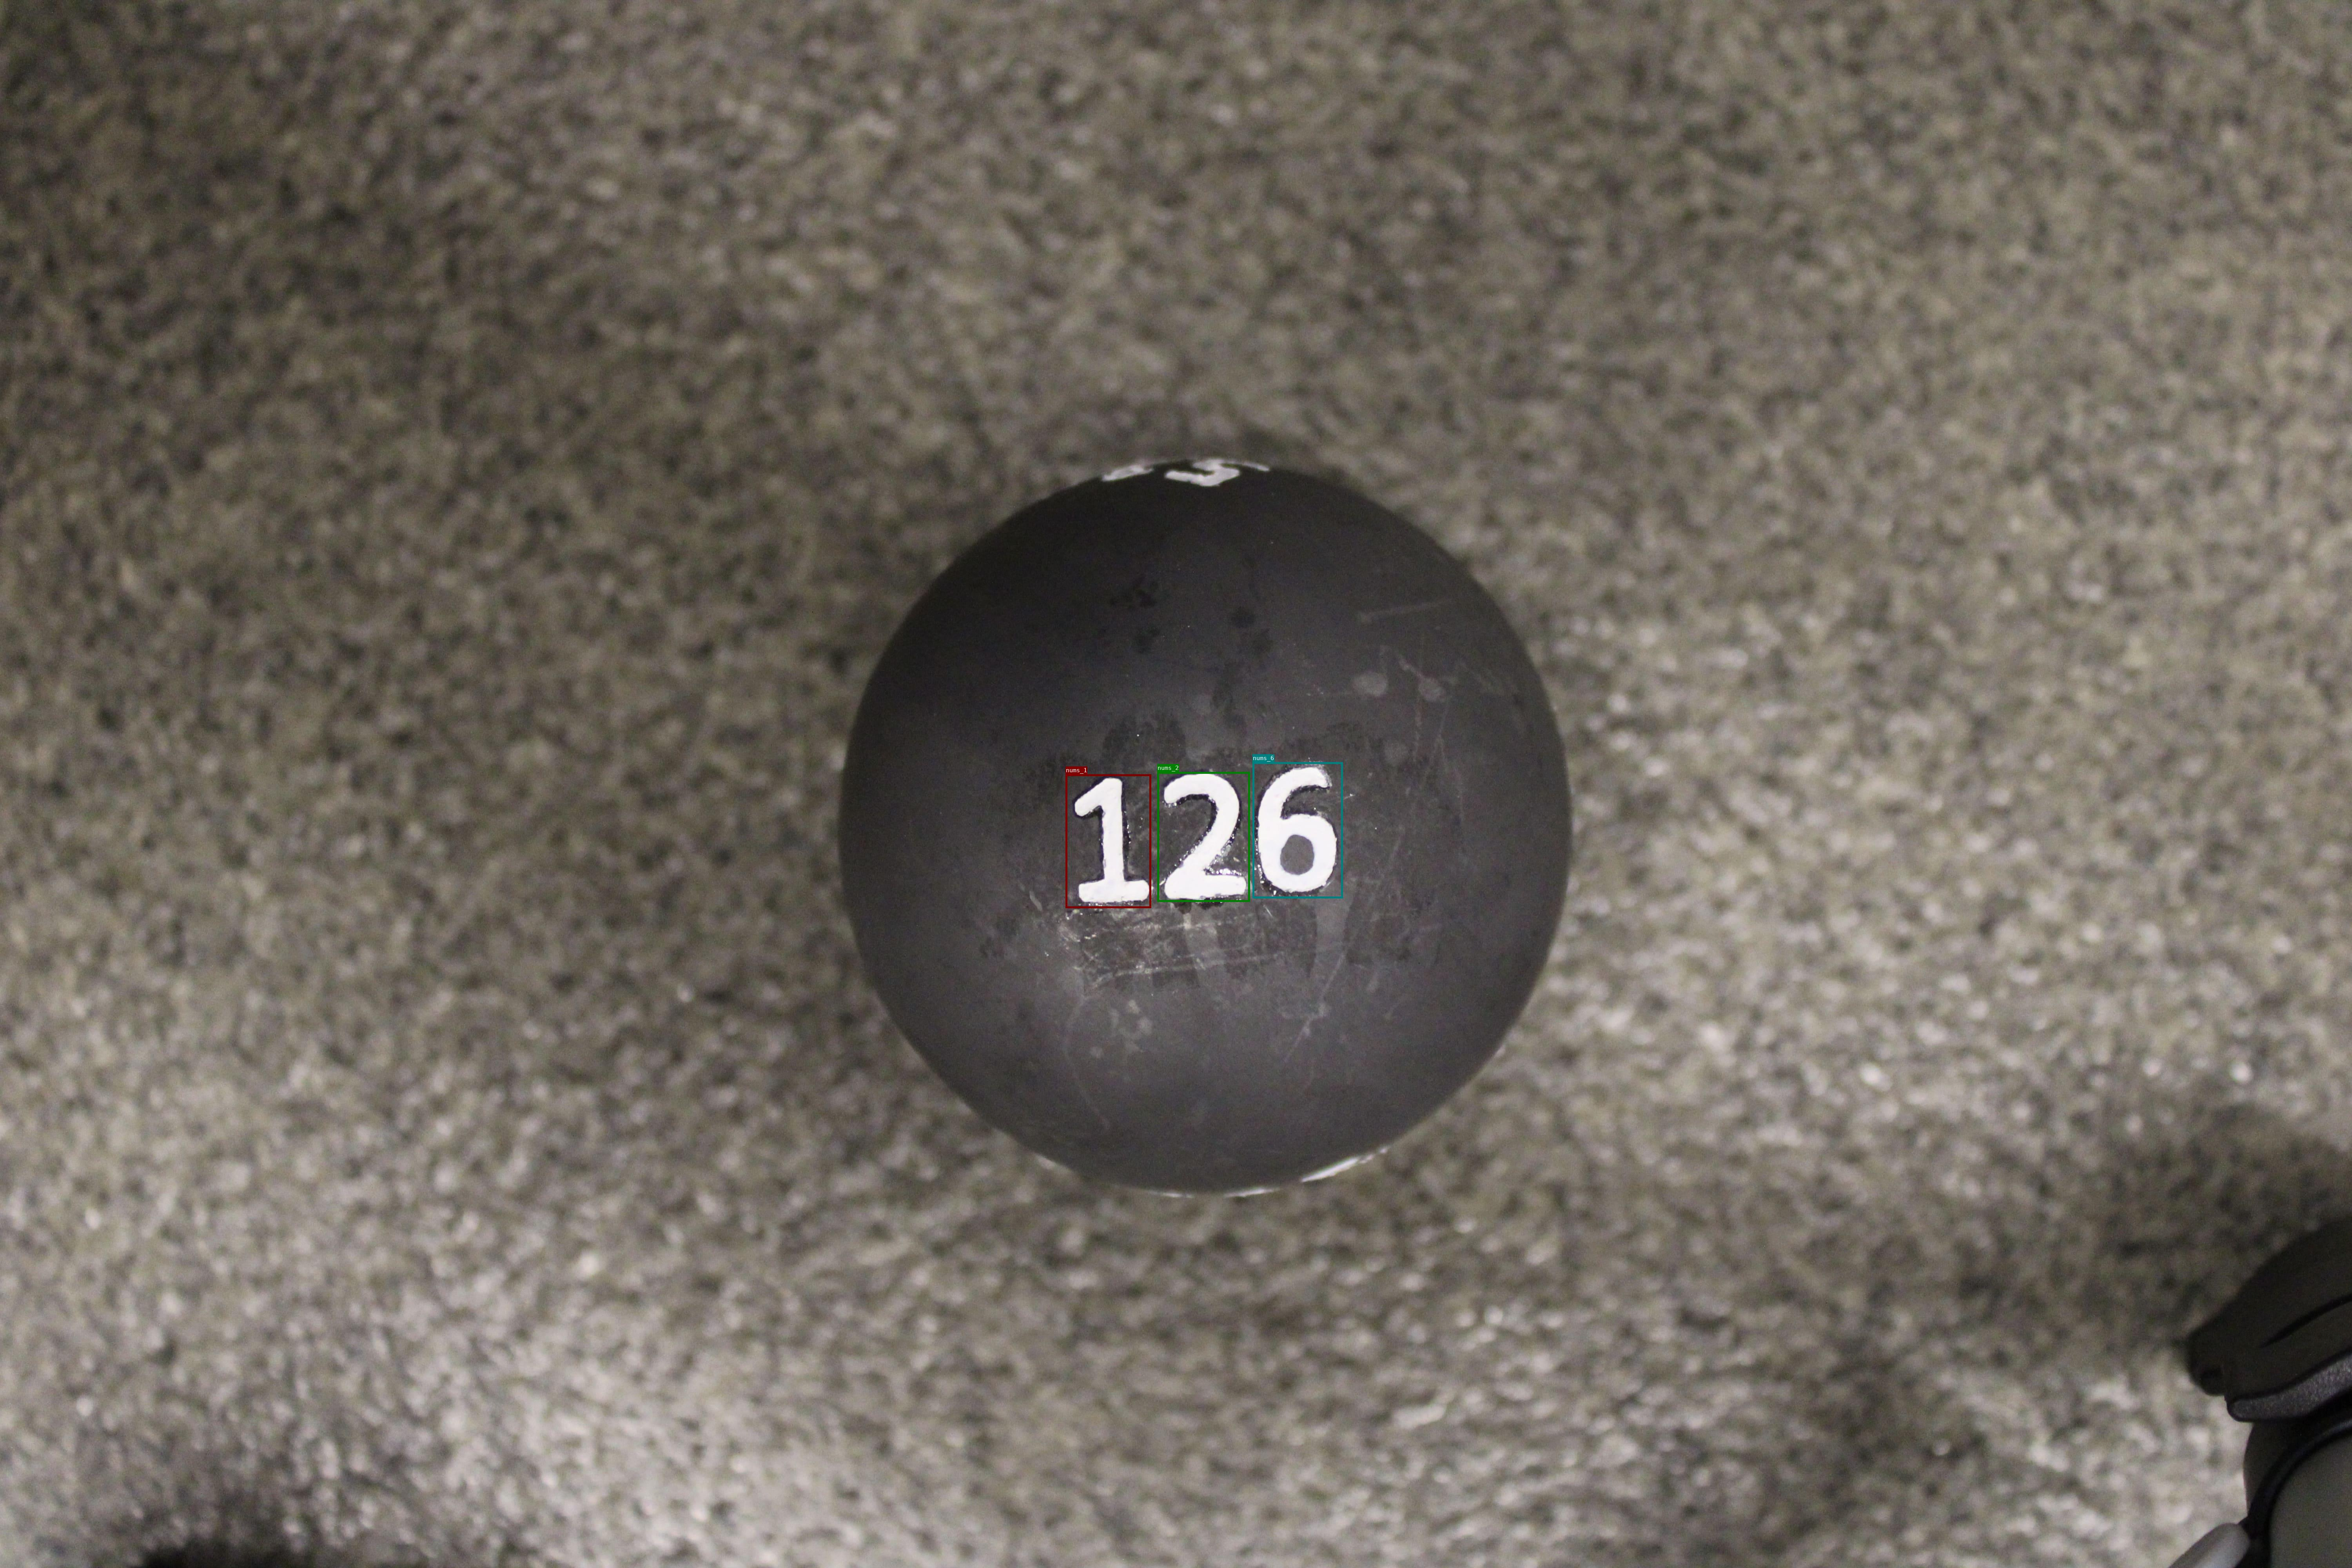nums_1: (1066, 773, 1151, 908)
nums_2: (1157, 772, 1249, 901)
nums_6: (1253, 761, 1342, 898)
